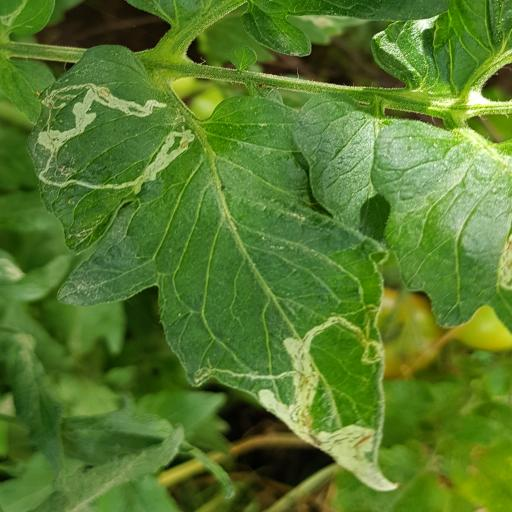Leaf Miner: (26, 44, 402, 492)
